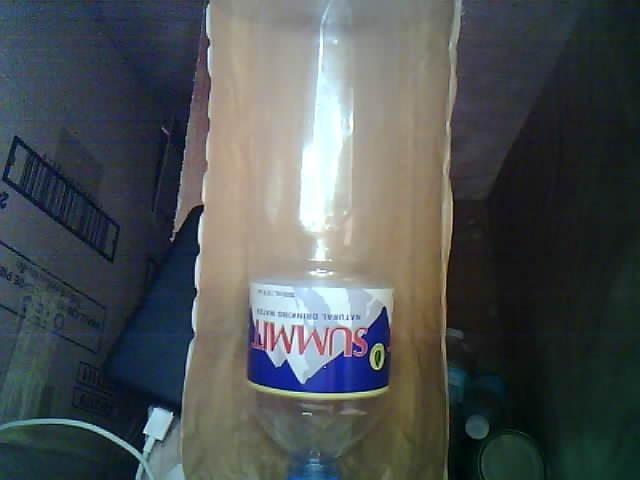large_bottle: (227, 0, 400, 480)
